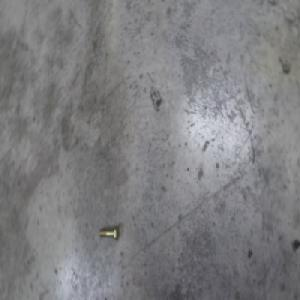Bolt: (100, 216, 121, 237)
